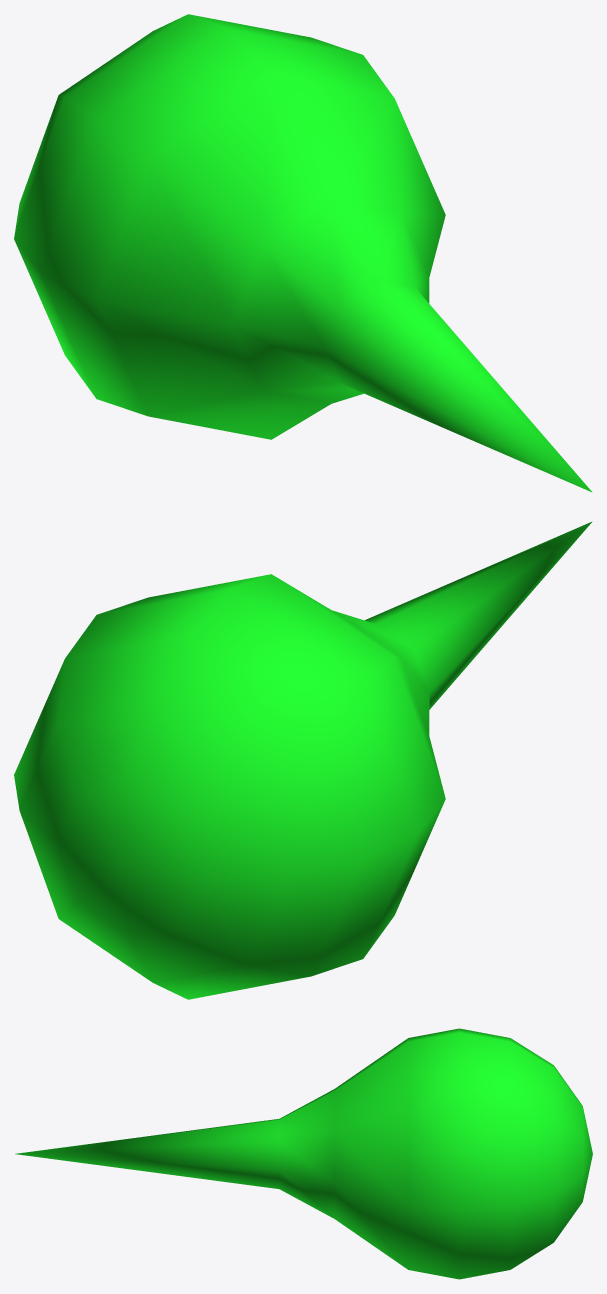
The model's file is bfg_proj.fbx.
The picture shows the model from 3 angles, top to bottom: view 1: azimuth 30°, elevation 25°; view 2: azimuth 150°, elevation 25°; view 3: azimuth 270°, elevation 25°; orthographic projection. The views are drawn at different scales.
Visible parts, largest first — view 1: pSphere4; view 2: pSphere4; view 3: pSphere4.
Part boxes in pixels (box(x1,y1,x2,y2)): pSphere4: box(14, 14, 592, 492); pSphere4: box(14, 521, 592, 999); pSphere4: box(15, 1028, 592, 1279).
Size of the model in its own units: 5.54 by 5.54 by 12.
